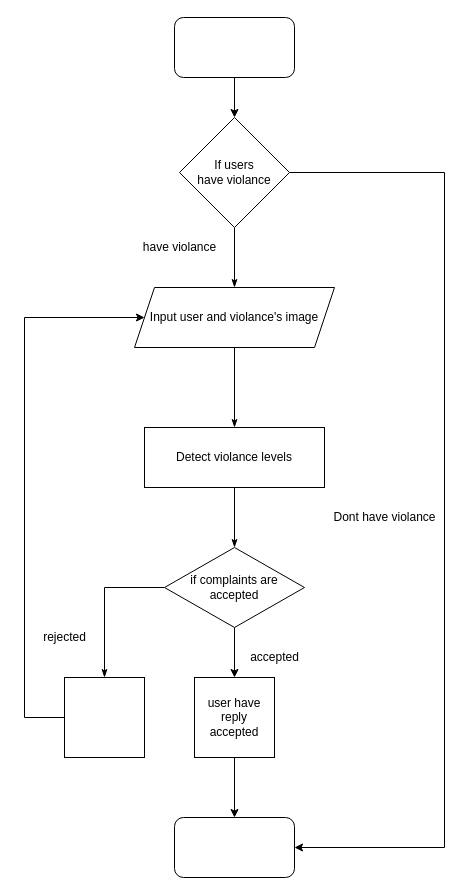
Image size: 470x895. Some labels were removed from this diagram. The shapes that lost their labels are listed below. From the top down, each one's centre as x and y in pixels, then its label:
At (x=234, y=47): "START".
At (x=104, y=717): "user have reply rejected".
At (x=234, y=847): "END".
